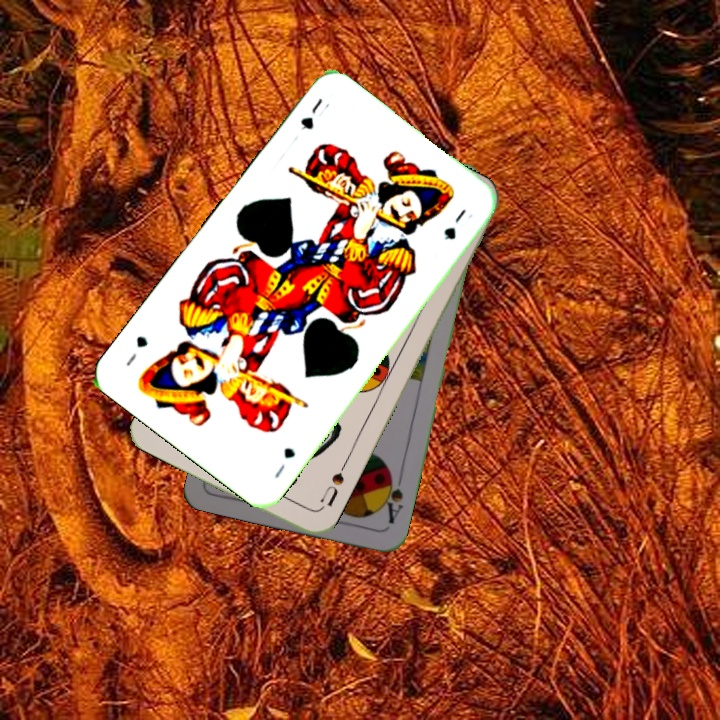GU: (296, 94, 326, 133), (270, 443, 298, 481)
SA: (377, 469, 406, 527)
SU: (316, 458, 349, 509)
